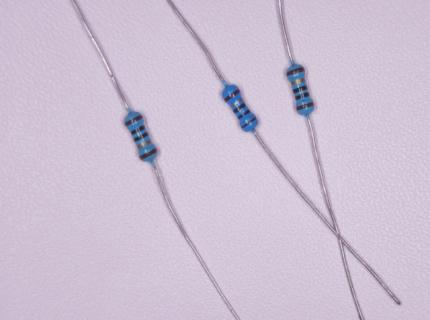Black band: (130, 125, 146, 136), (133, 131, 149, 142), (232, 103, 247, 114), (237, 109, 251, 120), (292, 85, 308, 94), (295, 92, 310, 101)
Brown band: (138, 147, 157, 161), (124, 114, 144, 127), (224, 88, 241, 103), (240, 117, 257, 129), (286, 67, 306, 77), (296, 102, 314, 111)
Gold band: (136, 139, 152, 150), (230, 97, 243, 108), (290, 78, 306, 86)
